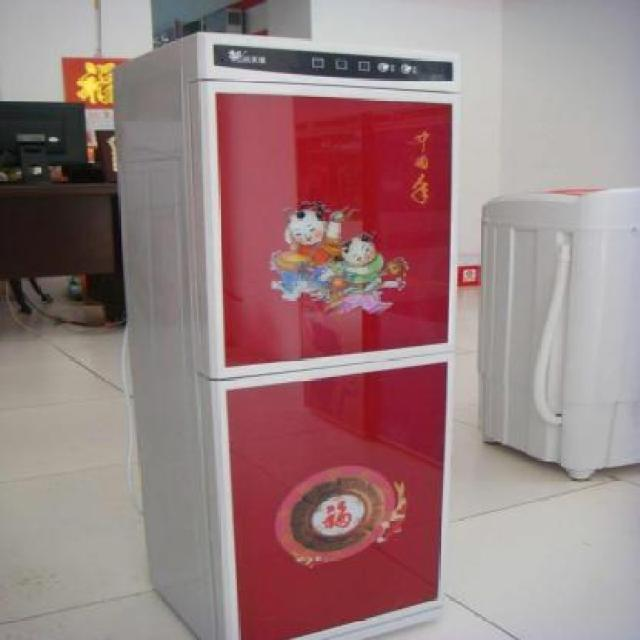cooler: (106, 26, 463, 640)
